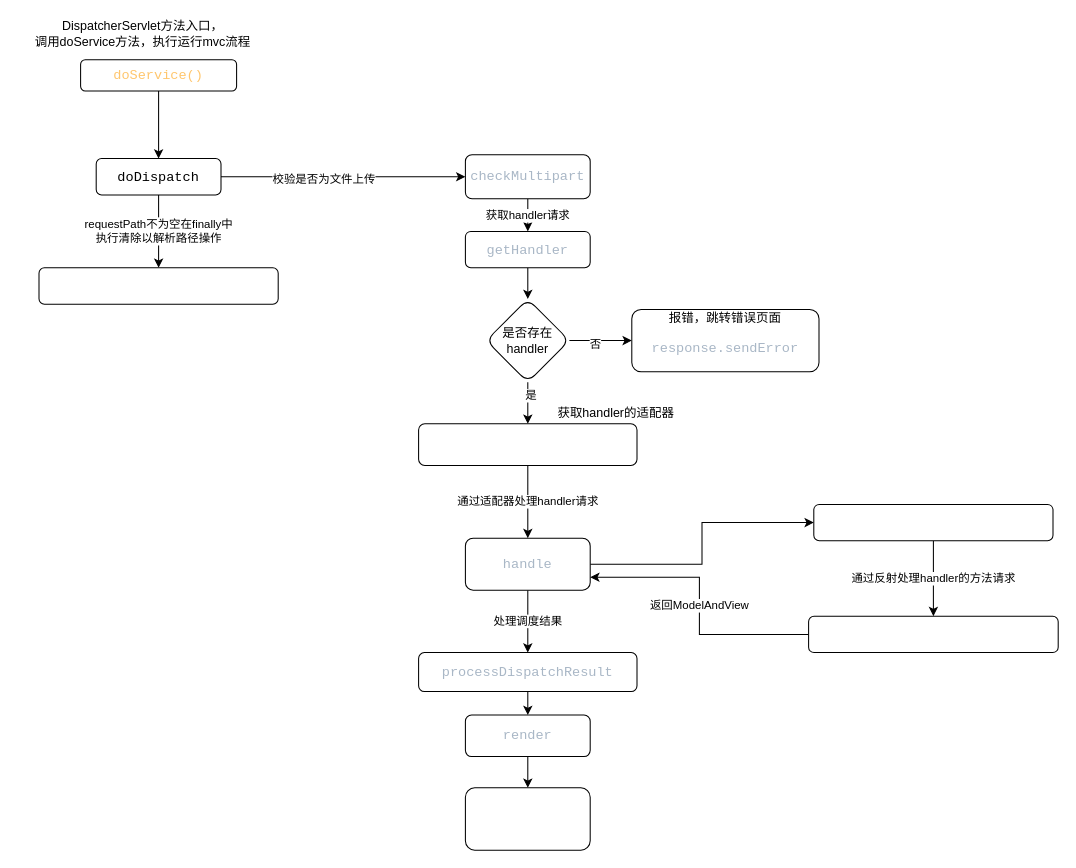
This 1076x868 diagram has some shape labels left out. Here are the shapes that lost their labels. From the top down, the centre of each, then its label:
(x=158, y=285): clearParsedRequestPath
(x=527, y=444): getHandlerAdapter
(x=933, y=522): handleInternal
(x=933, y=634): invokeHandlerMethod
(x=527, y=818): response请求进行数据或页面返回
